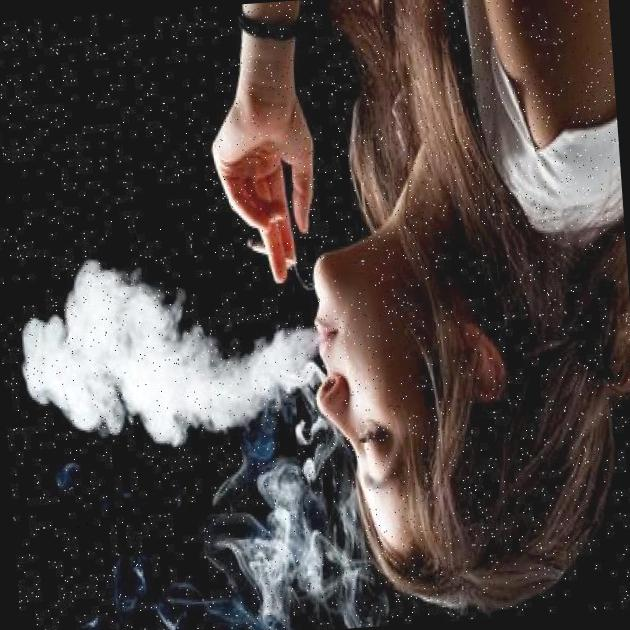smoke: (35, 270, 317, 449), (231, 458, 368, 622)
